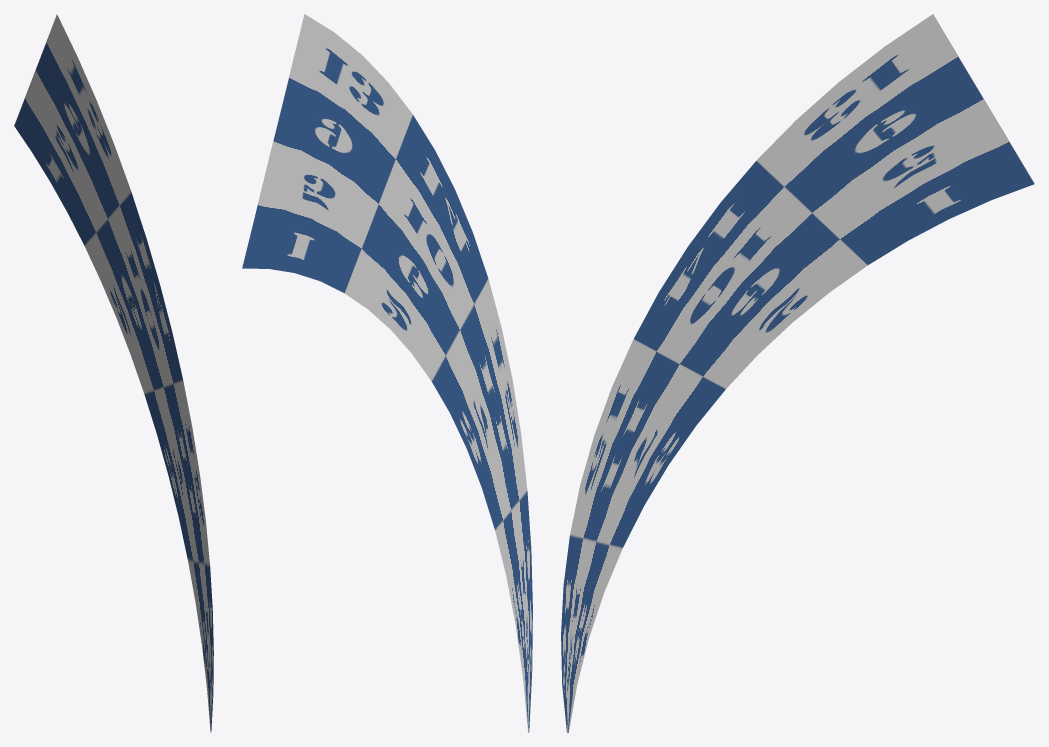
The model's file is Akaza_Angry2_1.fbx.
3 renders of one model, left to right at view 1: azimuth 30°, elevation 25°; view 2: azimuth 150°, elevation 25°; view 3: azimuth 270°, elevation 25°, orthographic. The views are drawn at different scales.
Parts seen in each view (by area): view 1: SM_e_Plc_P1012_Angry002_01; view 2: SM_e_Plc_P1012_Angry002_01; view 3: SM_e_Plc_P1012_Angry002_01.
Part boxes in pixels (x1,y1,x2,y2): SM_e_Plc_P1012_Angry002_01: [14, 14, 213, 732]; SM_e_Plc_P1012_Angry002_01: [242, 14, 532, 732]; SM_e_Plc_P1012_Angry002_01: [561, 14, 1034, 732].
Bounding box in the file's own units: 5.05e-06 × 92.86 × 55.48.
